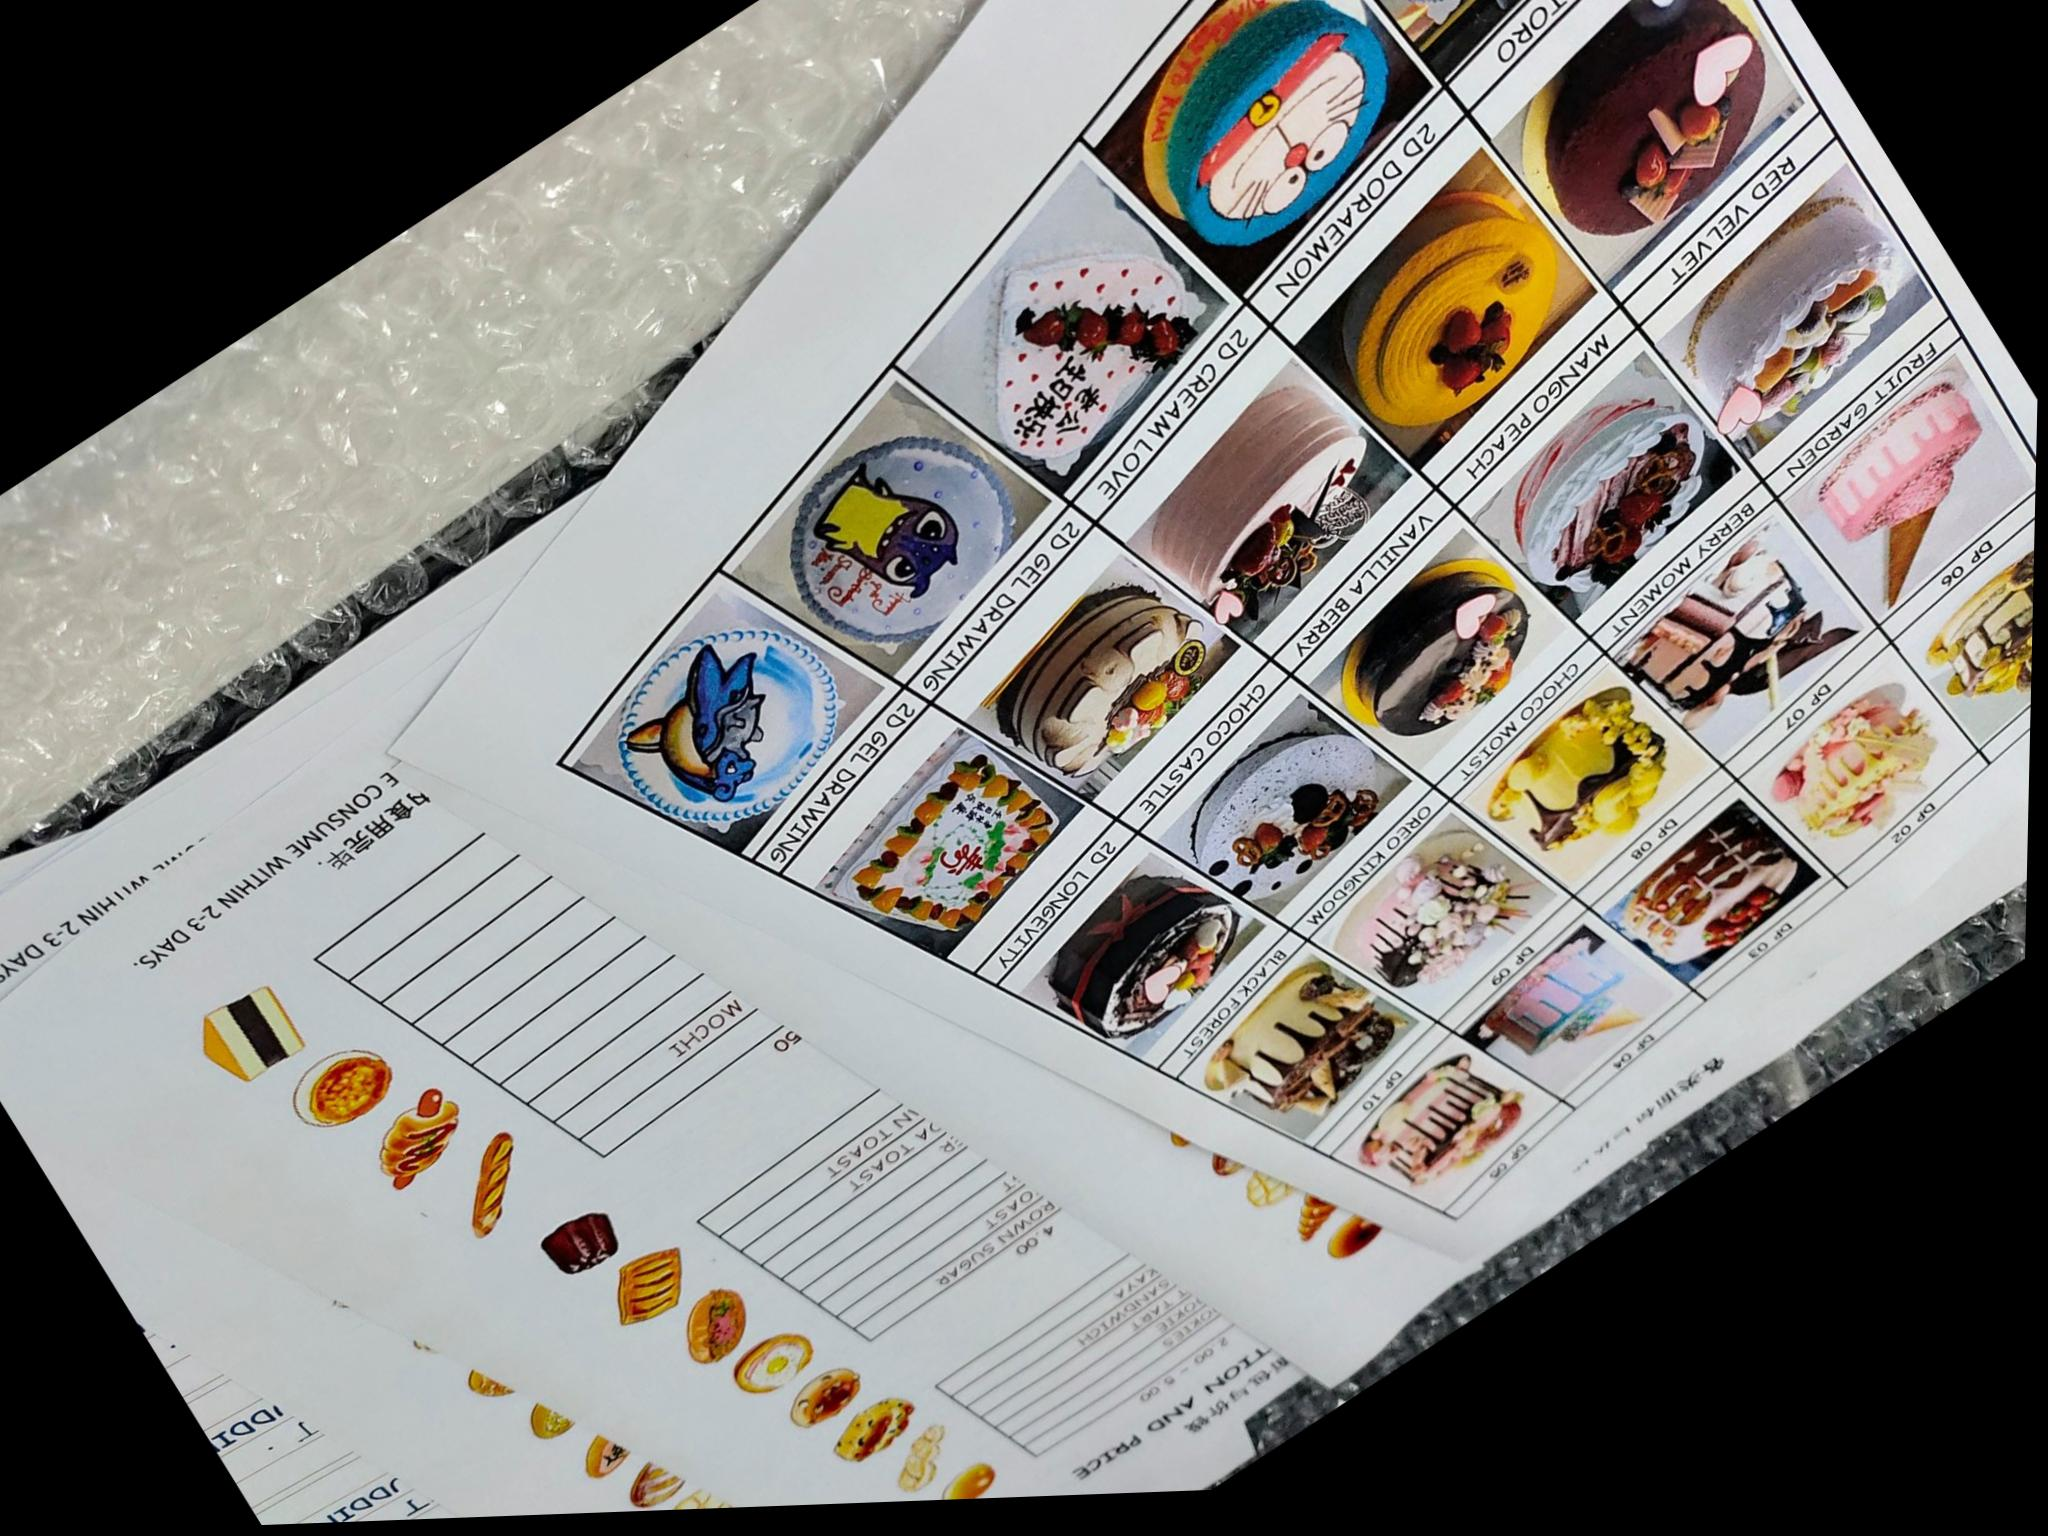paper: (164, 0, 2048, 1528), (0, 345, 1355, 1536)
